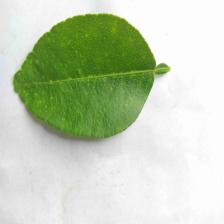greening: (10, 7, 157, 145)
